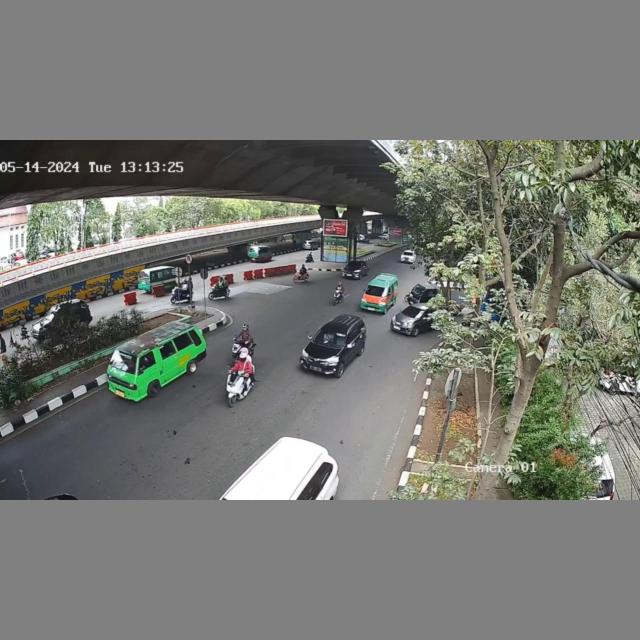windshield: (103, 349, 144, 374), (312, 327, 348, 348)
